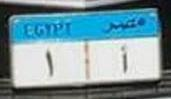1: (44, 48, 57, 80)
alif: (118, 43, 131, 76)
